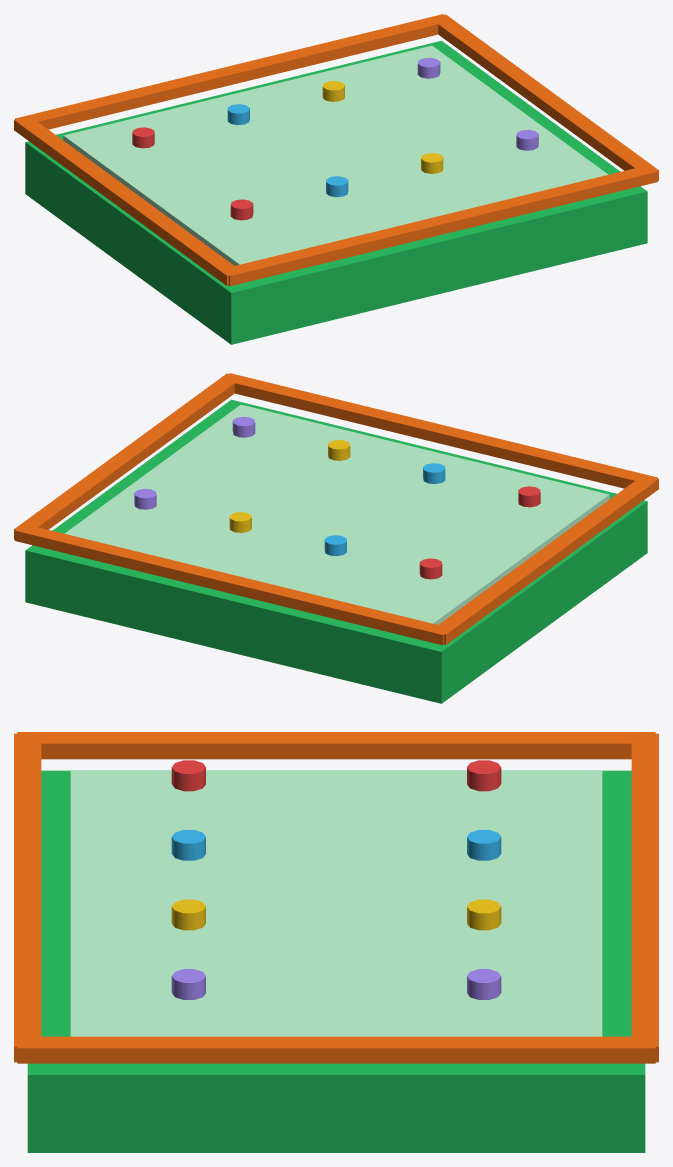
File: toy_square_plate_s6_confetti.glb
3 renders of one model, top to bottom at view 1: azimuth 30°, elevation 25°; view 2: azimuth 150°, elevation 25°; view 3: azimuth 270°, elevation 25°, orthographic. The views are drawn at different scales.
Parts seen in each view (by area): view 1: solid_2, solid_1, solid_4, solid_3, solid_5, solid_6; view 2: solid_2, solid_1, solid_3, solid_4, solid_5, solid_6; view 3: solid_2, solid_1, solid_6, solid_5, solid_3, solid_4, solid_9, solid_13, solid_7, solid_11, solid_8, solid_10 (+2 smaller).
Part boxes in pixels (box(x1,y1,x2,y2)): solid_2: box(63, 45, 608, 265); solid_1: box(25, 40, 647, 344); solid_4: box(221, 165, 657, 286); solid_3: box(15, 14, 451, 129); solid_5: box(14, 116, 236, 285); solid_6: box(432, 14, 658, 180); solid_2: box(64, 404, 609, 624); solid_1: box(25, 399, 647, 703); solid_3: box(15, 524, 451, 645); solid_4: box(222, 373, 657, 488); solid_5: box(438, 475, 658, 644); solid_6: box(14, 373, 241, 539); solid_2: box(70, 771, 602, 1036); solid_1: box(27, 770, 645, 1152); solid_6: box(17, 1036, 655, 1063); solid_5: box(17, 732, 655, 759); solid_3: box(631, 733, 658, 1062); solid_4: box(14, 733, 41, 1062); solid_9: box(467, 899, 501, 930); solid_13: box(171, 899, 205, 930); solid_7: box(467, 760, 501, 791); solid_11: box(171, 760, 205, 791); solid_8: box(467, 830, 501, 860); solid_10: box(467, 969, 501, 999).
Bounding box in the file's own units: 4.36 × 0.825 × 3.76.
